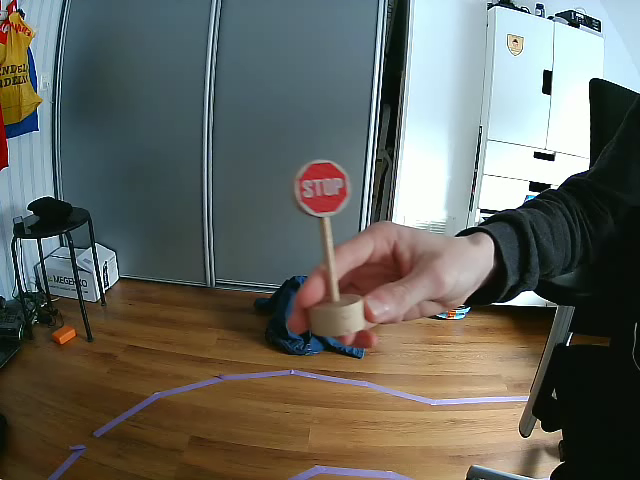stopbord: (296, 160, 348, 216)
